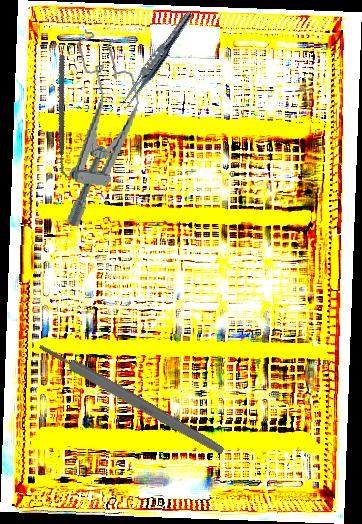Chopper: (15, 53, 113, 180)
Scalpel Handle: (36, 340, 227, 457)
Speculum: (52, 28, 148, 233)
Tissue Forceps: (116, 7, 196, 115)
